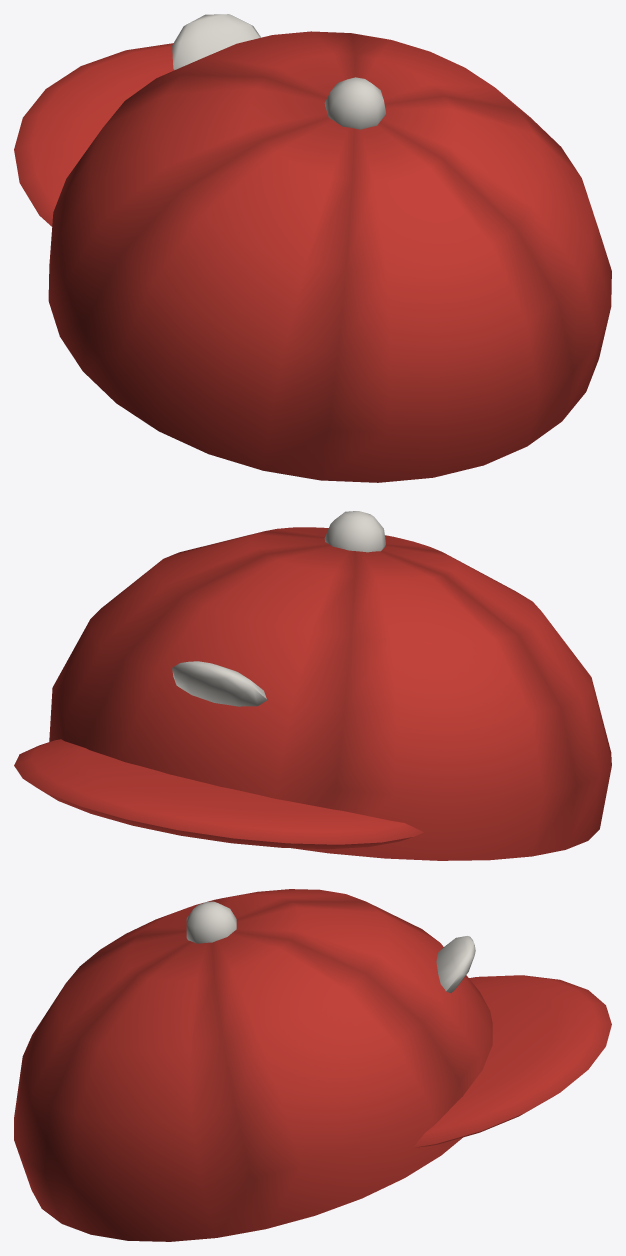
File: Wear_Cap.fbx
The picture shows the model from 3 angles, top to bottom: view 1: azimuth 30°, elevation 25°; view 2: azimuth 150°, elevation 25°; view 3: azimuth 270°, elevation 25°; orthographic projection. The views are drawn at different scales.
Parts seen in each view (by area): view 1: Wear_Cap; view 2: Wear_Cap; view 3: Wear_Cap.
Part boxes in pixels (x1,y1,x2,y2): Wear_Cap: [14, 14, 611, 482]; Wear_Cap: [14, 511, 611, 860]; Wear_Cap: [14, 889, 611, 1241].
Bounding box in the file's own units: 0.136 × 0.0836 × 0.1648.
